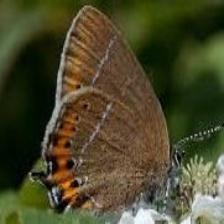butterfly: (29, 5, 181, 224)
